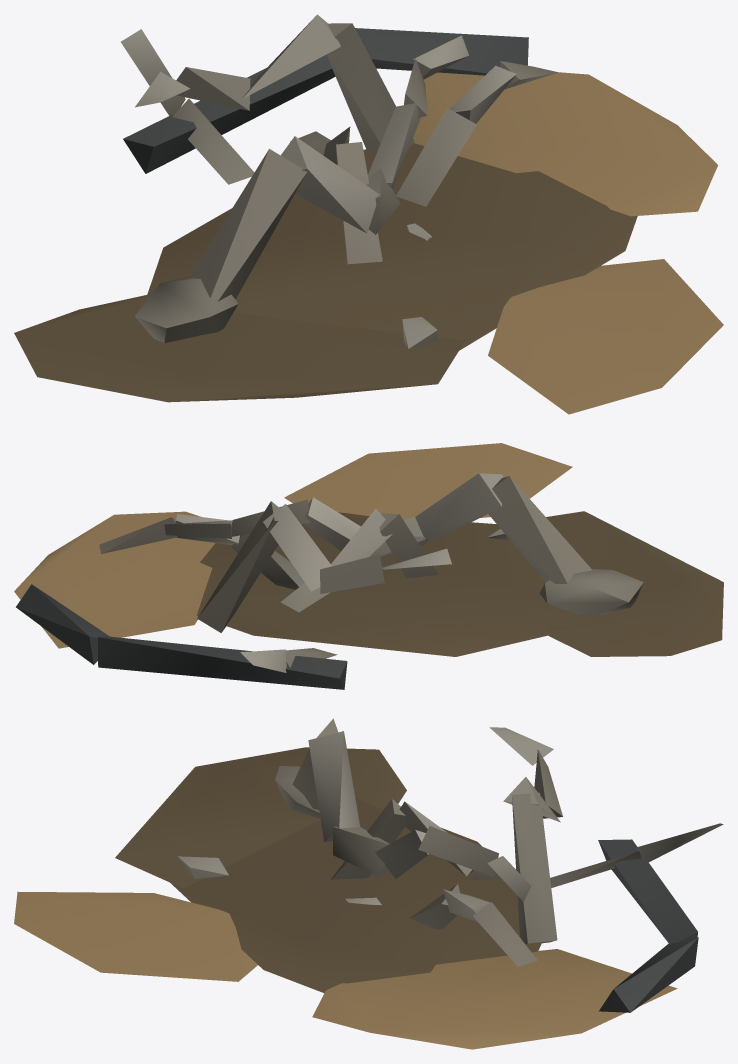
File: fulgurite_a_lod2.glb
3 renders of one model, top to bottom at view 1: azimuth 30°, elevation 25°; view 2: azimuth 150°, elevation 25°; view 3: azimuth 270°, elevation 25°, orthographic. The views are drawn at different scales.
Parts seen in each view (by area): view 1: Surface.001; view 2: Surface.001; view 3: Surface.001.
Boxes of the visible parts, box(x1,y1,x2,y2) form: Surface.001: box(14, 14, 723, 414); Surface.001: box(14, 443, 723, 689); Surface.001: box(14, 718, 723, 1049).
Bounding box in the file's own units: 2.86 × 0.6618 × 2.85.
